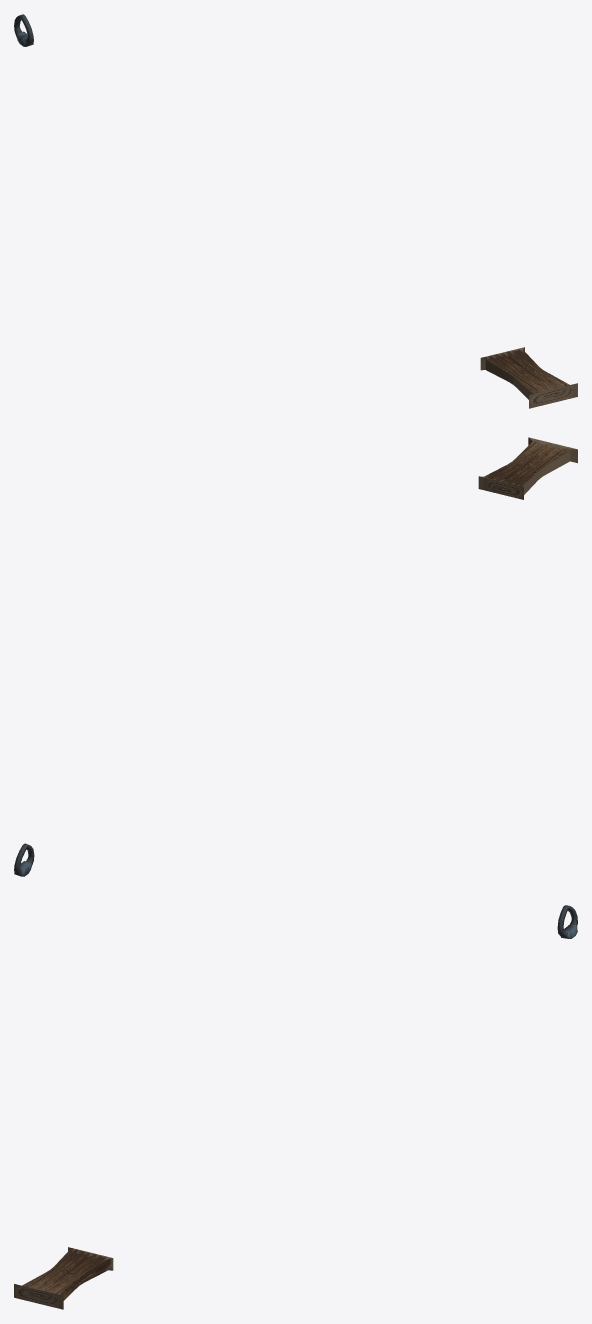
Rendered from prop_town_door.glb.
3 renders of one model, top to bottom at view 1: azimuth 30°, elevation 25°; view 2: azimuth 150°, elevation 25°; view 3: azimuth 330°, elevation 25°, orthographic.
Parts seen in each view (by area): view 1: obj_door; view 2: obj_door; view 3: obj_door.
Part boxes in pixels (x1,y1,x2,y2): obj_door: (480,347,577,408); obj_door: (478,437,577,499); obj_door: (14,1247,113,1309).
Bounding box in the file's own units: 1.41 × 1.06 × 26.64.
Materials: 2 (2 with a texture image).
